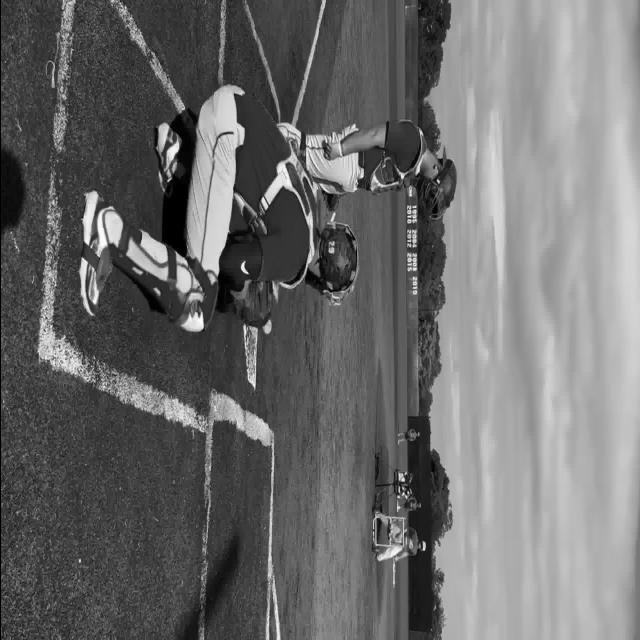base: (240, 311, 259, 400)
baseball: (262, 318, 272, 334)
baseball_glove: (237, 278, 274, 328)
shoe: (78, 189, 115, 316), (154, 121, 180, 195)
